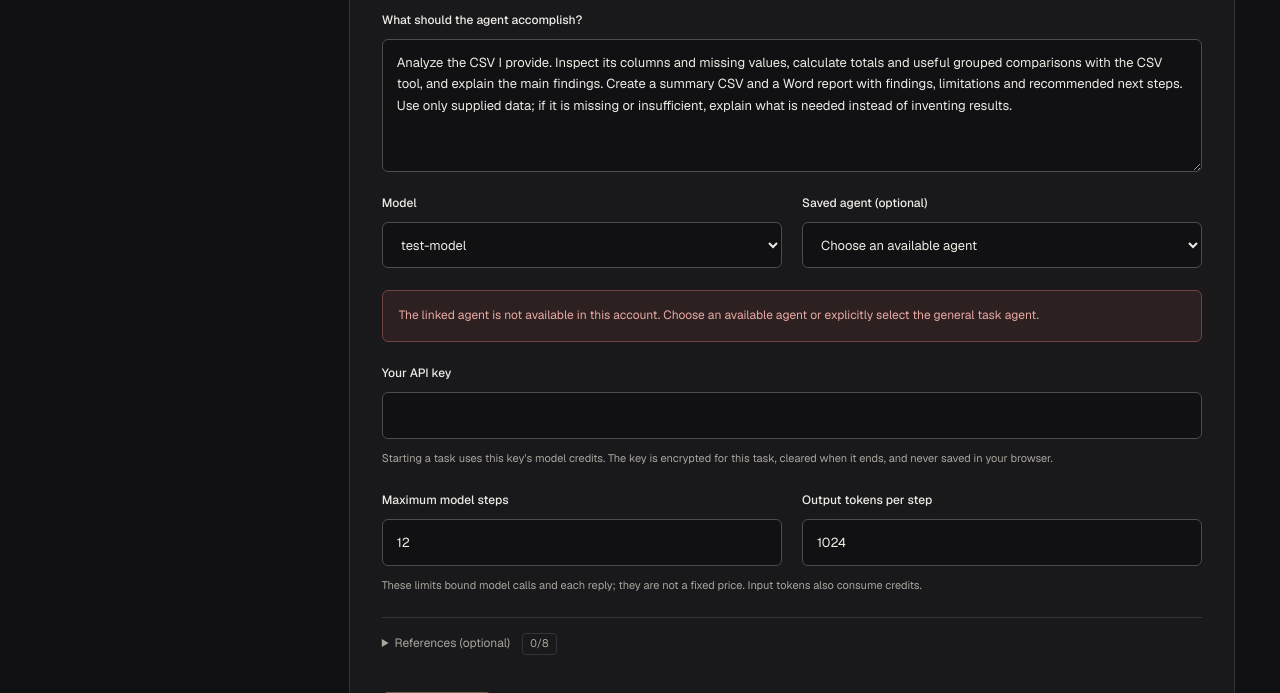
persistent task console › keeps a missing linked agent blocking submission while prefilling the starter
(page scrolled)
Check: the text "The linked agent is not available in this account" is shown, box [399,307,1039,323]
Step 1. Type "sk-user-key-123" into the password field labelled "Your API key" → (792, 416), box [382,392,1202,439]
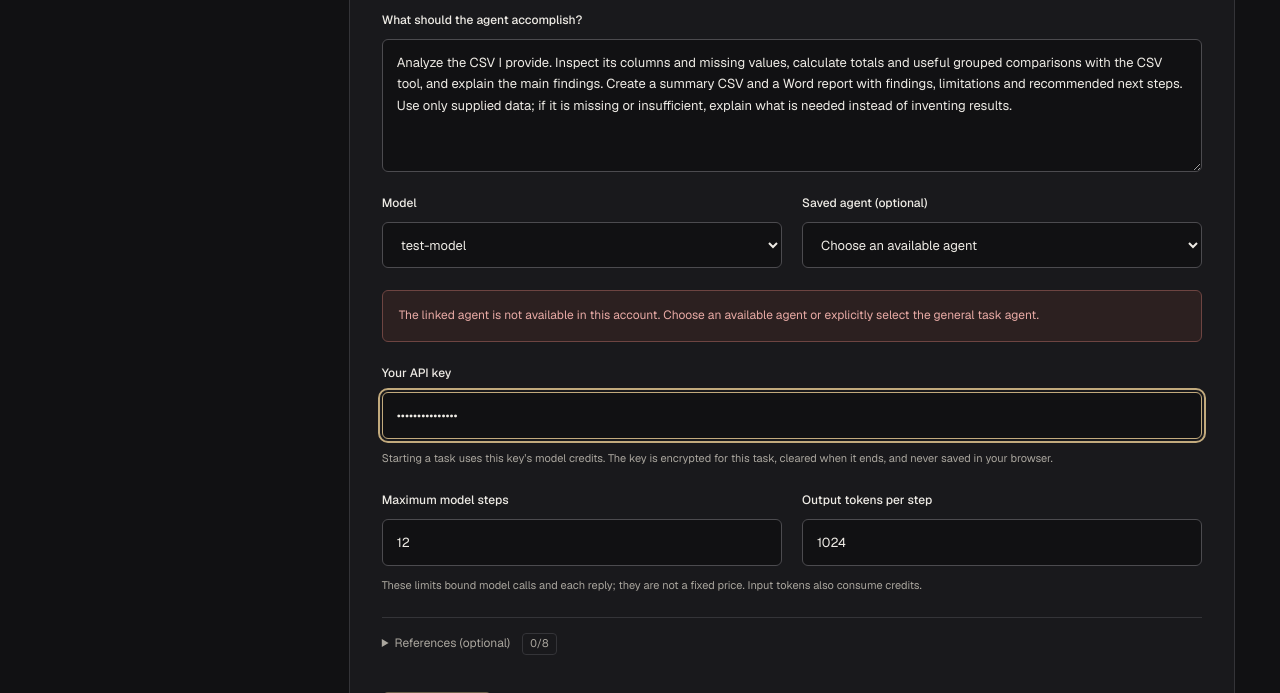
Step 2. Select "General task agent" in the dropdown labelled "Saved agent (optional)" → (1002, 245), box [802,222,1202,268]
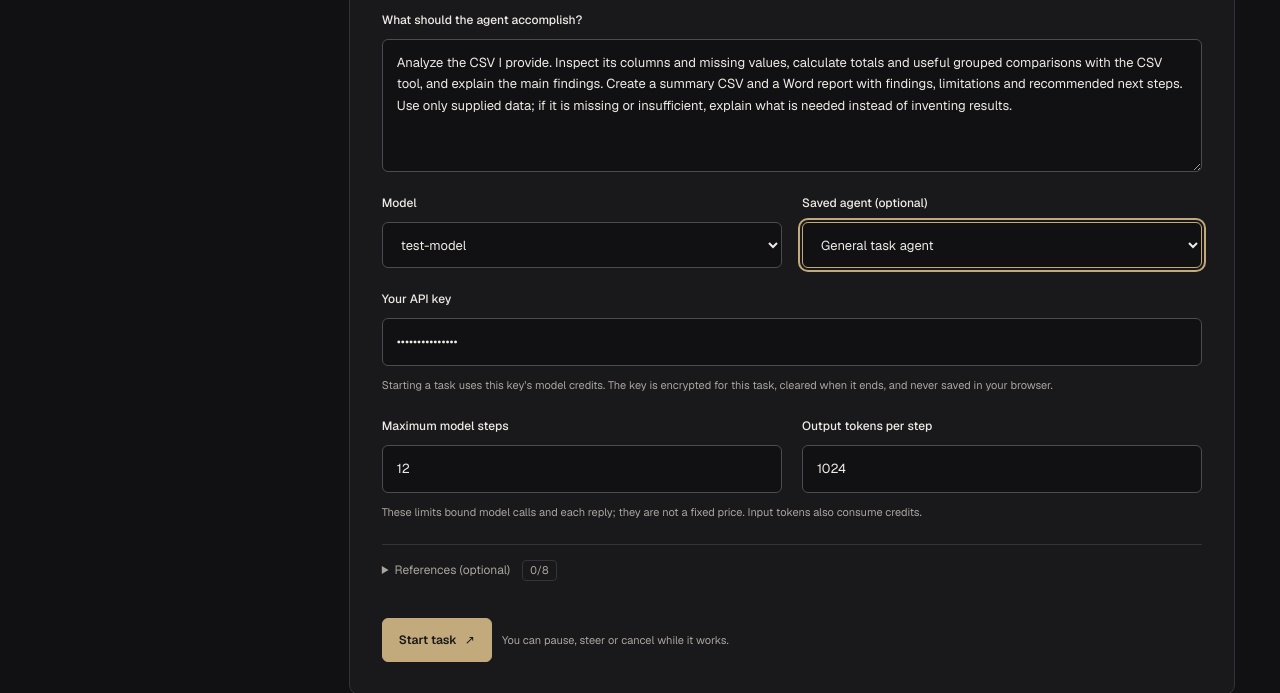
Check: the button "Start task ↗" is enabled, box [382,618,492,662]
